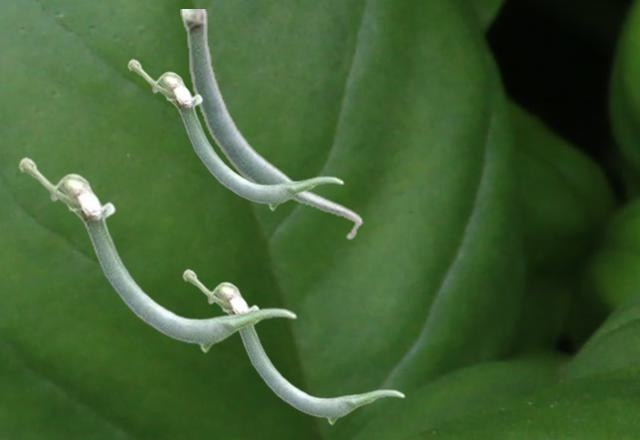french_bean: (18, 156, 296, 352), (180, 9, 362, 240), (182, 268, 404, 424), (127, 58, 343, 210)
